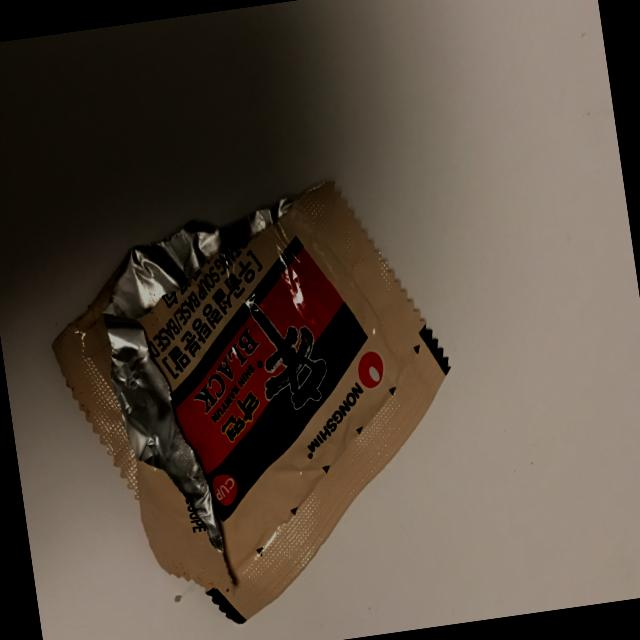Plastic: (23, 128, 503, 640)
